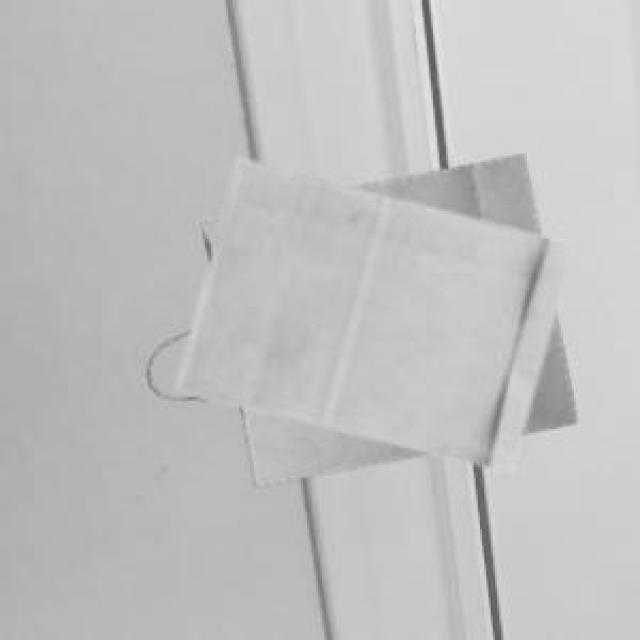paper: (143, 152, 572, 482), (173, 156, 568, 465)
